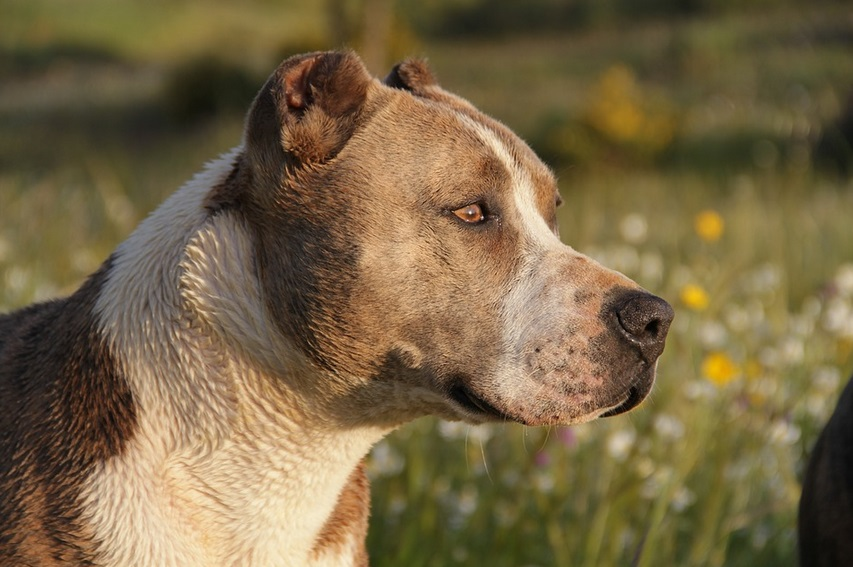dog: (1, 36, 676, 565)
